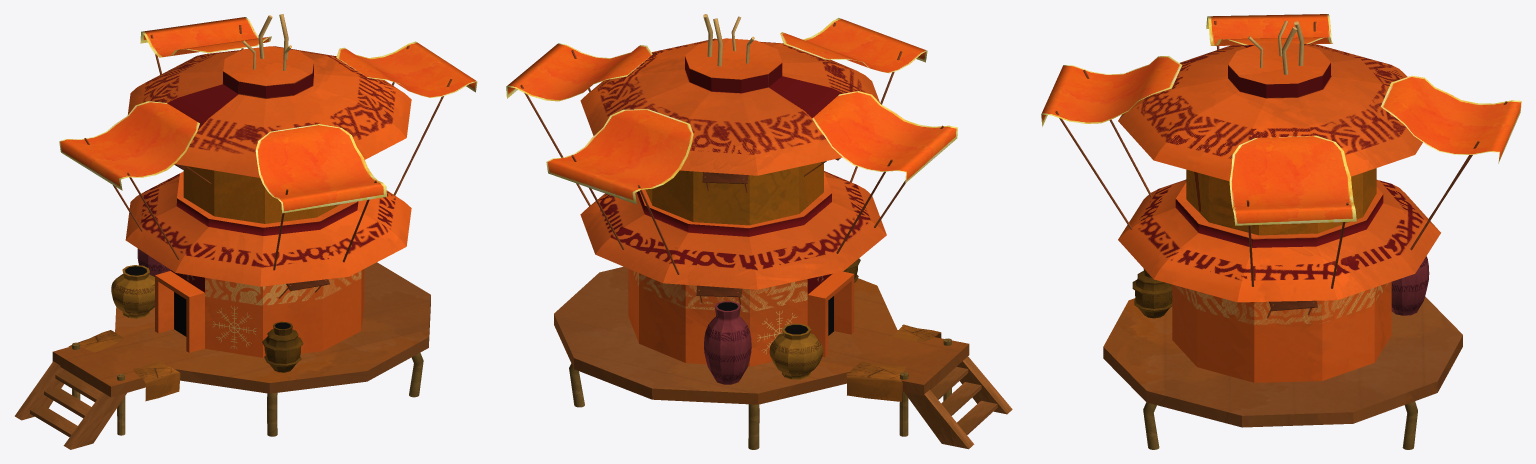
File: maison2etage.fbx
The picture shows the model from 3 angles, left to right: view 1: azimuth 30°, elevation 25°; view 2: azimuth 150°, elevation 25°; view 3: azimuth 270°, elevation 25°; orthographic projection. The views are drawn at different scales.
Parts seen in each view (by area): view 1: pPlane53, pCylinder236, pCylinder234, pCylinder233, polySurface732, polySurface726, pCylinder235, polySurface729, polySurface735, polySurface748, pPipe103; view 2: pPlane53, pCylinder236, pCylinder234, pCylinder233, polySurface735, pCylinder235, polySurface726, polySurface729, polySurface732, polySurface747, polySurface748, polySurface702; view 3: pCylinder236, pCylinder234, pPlane53, pCylinder233, polySurface729, polySurface735, polySurface732, pCylinder235, polySurface726, polySurface747, pPipe103.
Part boxes in pixels (bbox=[...]): pPlane53: bbox=[15, 262, 430, 449]; pCylinder236: bbox=[128, 46, 411, 177]; pCylinder234: bbox=[125, 171, 411, 286]; pCylinder233: bbox=[155, 269, 364, 357]; polySurface732: bbox=[255, 124, 386, 213]; polySurface726: bbox=[59, 101, 199, 190]; pCylinder235: bbox=[183, 166, 340, 223]; polySurface729: bbox=[336, 41, 477, 97]; polySurface735: bbox=[140, 17, 271, 57]; polySurface748: bbox=[111, 265, 154, 318]; pPipe103: bbox=[262, 321, 303, 372]; pPlane53: bbox=[554, 266, 1012, 449]; pCylinder236: bbox=[580, 38, 879, 175]; pCylinder234: bbox=[580, 171, 886, 289]; pCylinder233: bbox=[628, 269, 854, 366]; polySurface735: bbox=[546, 109, 693, 204]; pCylinder235: bbox=[645, 161, 823, 225]; polySurface726: bbox=[812, 91, 957, 182]; polySurface729: bbox=[506, 43, 652, 101]; polySurface732: bbox=[780, 18, 927, 73]; polySurface747: bbox=[704, 301, 751, 384]; polySurface748: bbox=[769, 323, 823, 379]; polySurface702: bbox=[702, 172, 748, 192]; pCylinder236: bbox=[1118, 42, 1422, 181]; pCylinder234: bbox=[1118, 179, 1440, 302]; pPlane53: bbox=[1103, 296, 1462, 449]; pCylinder233: bbox=[1172, 282, 1391, 382]; polySurface729: bbox=[1229, 135, 1356, 225]; polySurface735: bbox=[1380, 75, 1521, 163]; polySurface732: bbox=[1041, 56, 1181, 126]; pCylinder235: bbox=[1186, 168, 1376, 235]; polySurface726: bbox=[1206, 14, 1332, 45]; polySurface747: bbox=[1391, 256, 1429, 315]; pPipe103: bbox=[1132, 269, 1172, 318].
Size of the model in its own units: 27.37 by 21.47 by 24.38.
